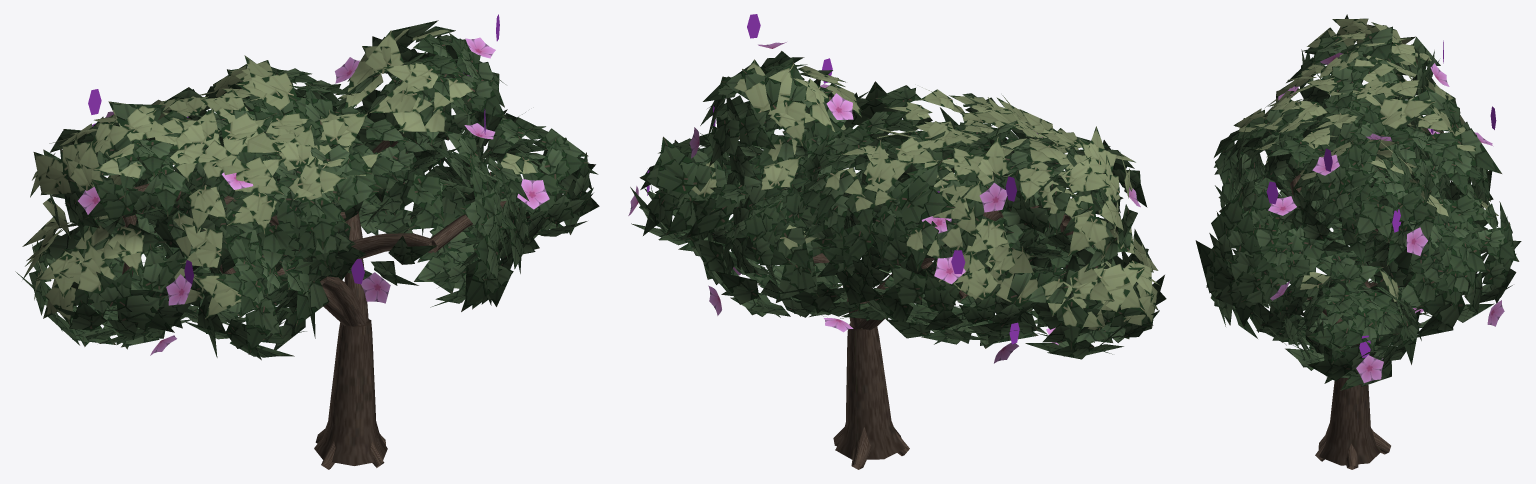
File: tree_violet_hd.glb
3 views of the same model, side by side, from view 1: azimuth 30°, elevation 25°; view 2: azimuth 150°, elevation 25°; view 3: azimuth 270°, elevation 25° (orthographic). The views are drawn at different scales.
Visible parts, largest first — view 1: tree_violet_lod0; view 2: tree_violet_lod0; view 3: tree_violet_lod0.
Boxes of the visible parts, x1,y1,x2,y2 form: tree_violet_lod0: (15, 14, 599, 469); tree_violet_lod0: (628, 14, 1166, 469); tree_violet_lod0: (1195, 14, 1521, 469).
Size of the model in its own units: 3.39 by 2.47 by 2.
1 material, 1 textured.
